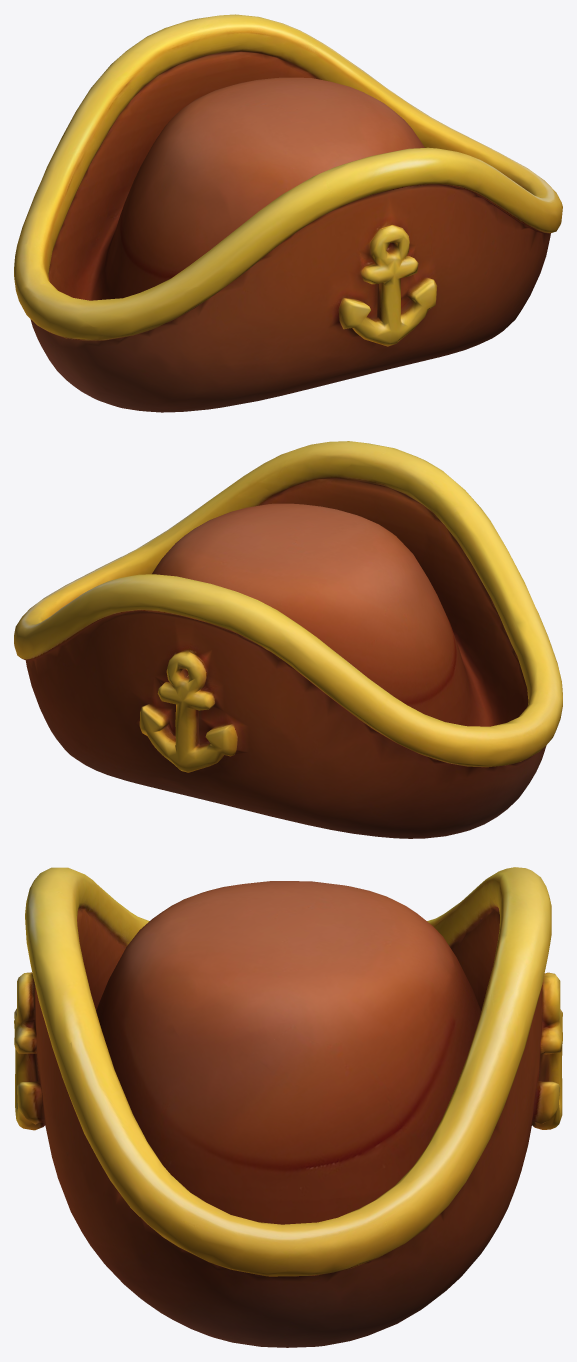
File: cs-pirate-hat.glb
3 renders of one model, top to bottom at view 1: azimuth 30°, elevation 25°; view 2: azimuth 150°, elevation 25°; view 3: azimuth 270°, elevation 25°, orthographic. The views are drawn at different scales.
Parts seen in each view (by area): view 1: tripo_node_f564a781-57c1-4623-b5eb-fa0f379a10e4; view 2: tripo_node_f564a781-57c1-4623-b5eb-fa0f379a10e4; view 3: tripo_node_f564a781-57c1-4623-b5eb-fa0f379a10e4.
Boxes of the visible parts, bbox=[...] form: tripo_node_f564a781-57c1-4623-b5eb-fa0f379a10e4: bbox=[14, 14, 562, 412]; tripo_node_f564a781-57c1-4623-b5eb-fa0f379a10e4: bbox=[14, 441, 562, 838]; tripo_node_f564a781-57c1-4623-b5eb-fa0f379a10e4: bbox=[14, 867, 562, 1347].
Size of the model in its own units: 1 by 0.4846 by 0.7243.
1 material, 1 textured.
